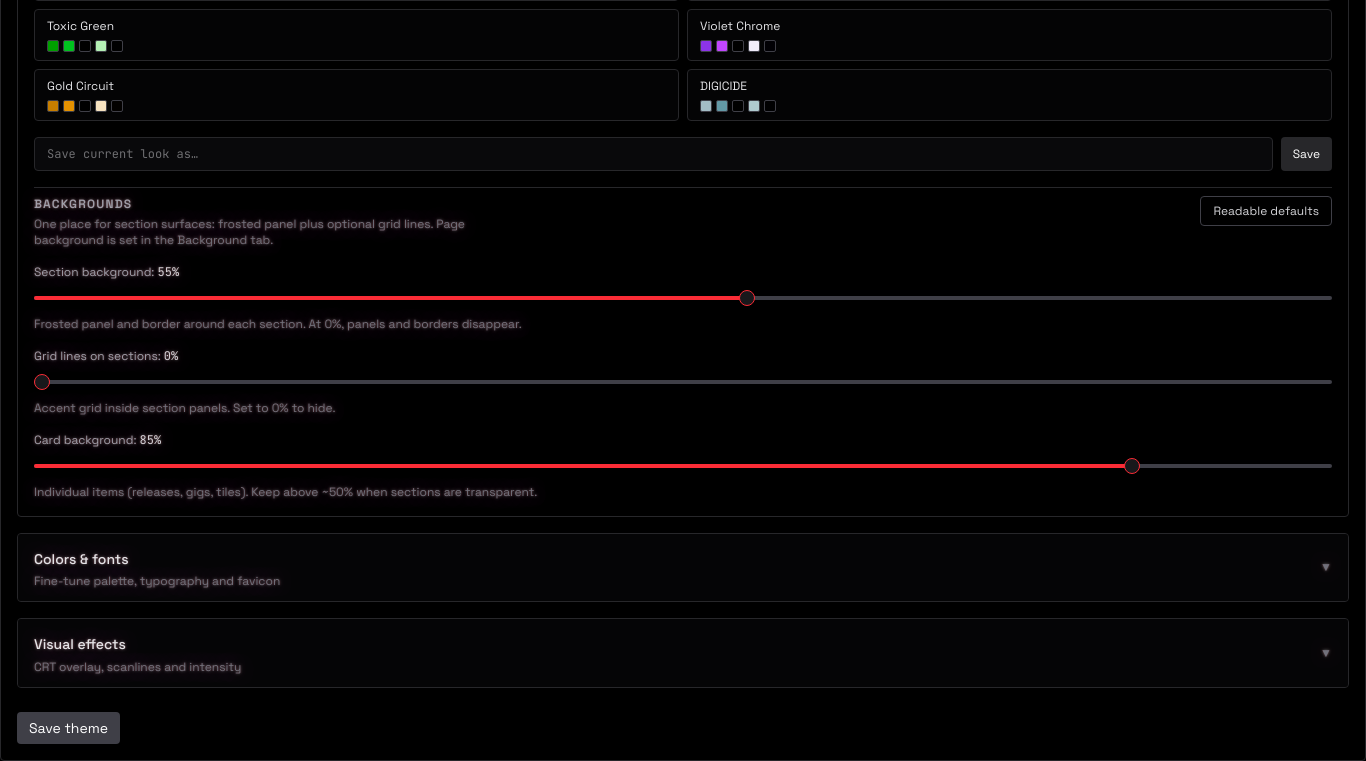
it: appearance editor reducer integration › preserves the existing save error behavior without announcing success
(page scrolled)
Click the button "Save theme" at (68, 728), box [17,712,120,744]
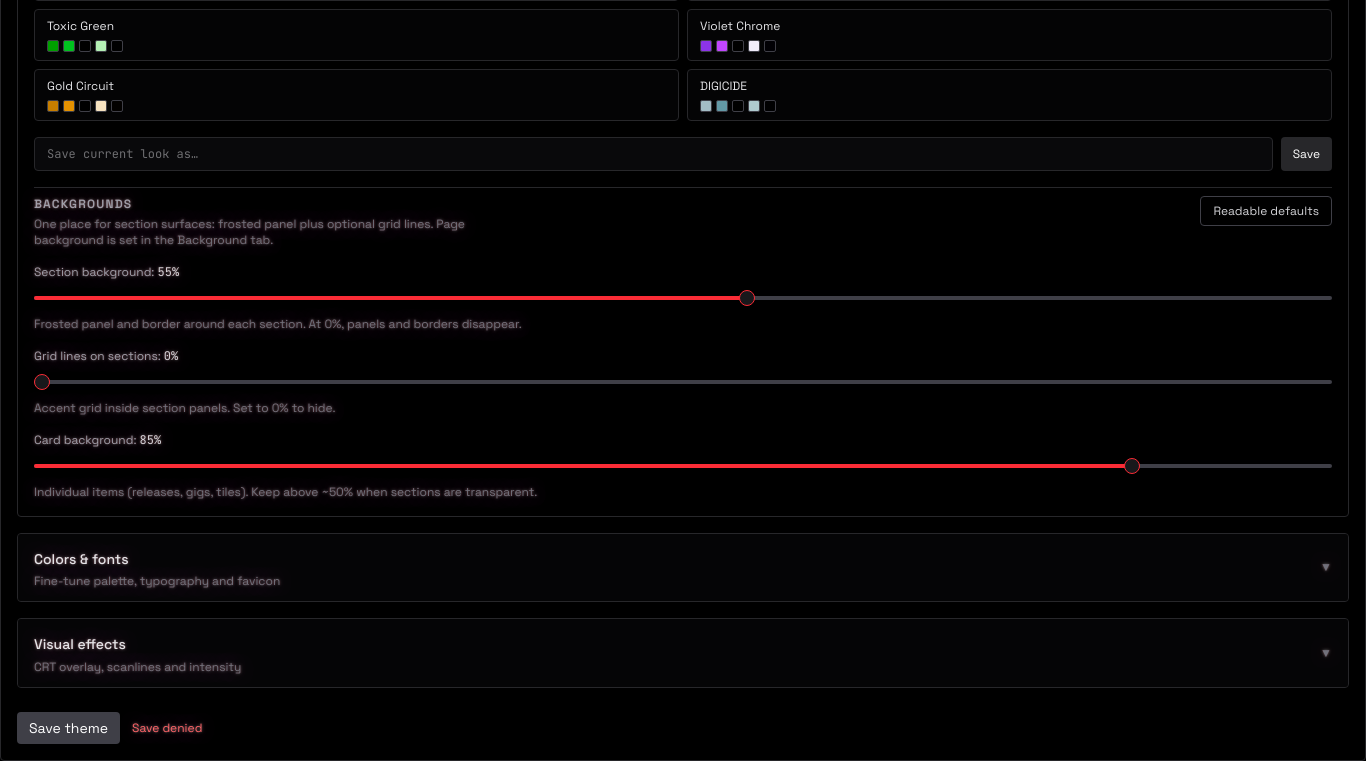
Check: the text "Save denied" is shown, box [132,720,202,736]
